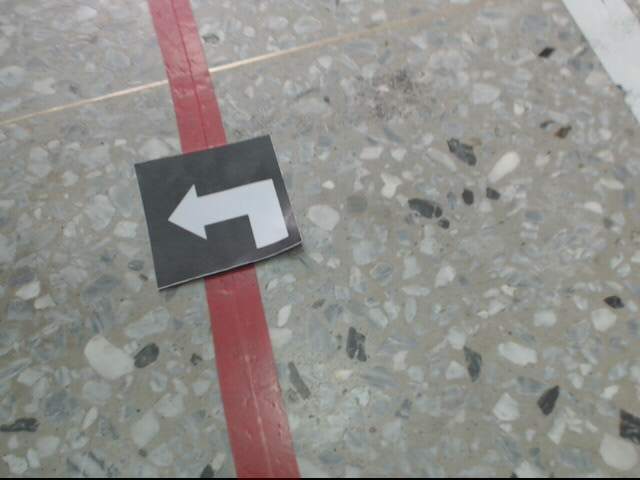left: (135, 131, 303, 294)
